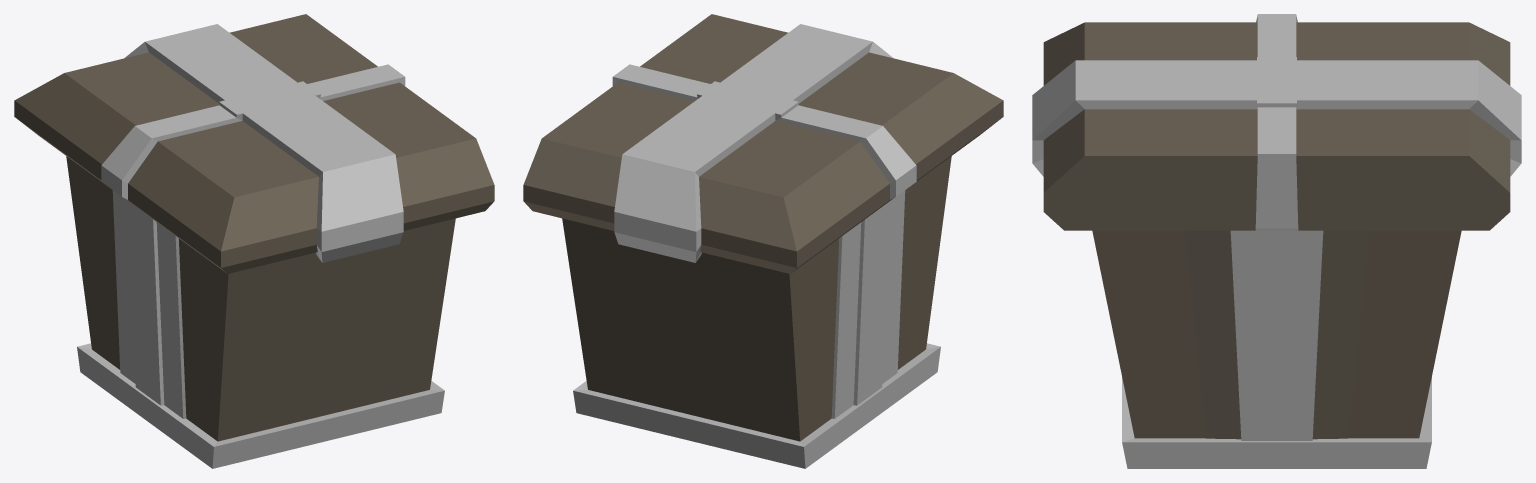
Rendered from Chest.fbx.
The picture shows the model from 3 angles, left to right: view 1: azimuth 30°, elevation 25°; view 2: azimuth 150°, elevation 25°; view 3: azimuth 270°, elevation 25°; orthographic projection. The views are drawn at different scales.
Visible parts, largest first — view 1: Lid, Box; view 2: Lid, Box; view 3: Lid, Box.
Part boxes in pixels (x1,y1,x2,y2): Lid: [14, 14, 494, 273]; Box: [66, 156, 455, 468]; Lid: [523, 14, 1003, 273]; Box: [562, 156, 951, 468]; Lid: [1032, 14, 1521, 230]; Box: [1092, 230, 1461, 468].
Size of the model in its own units: 13.55 by 13.28 by 17.81.
